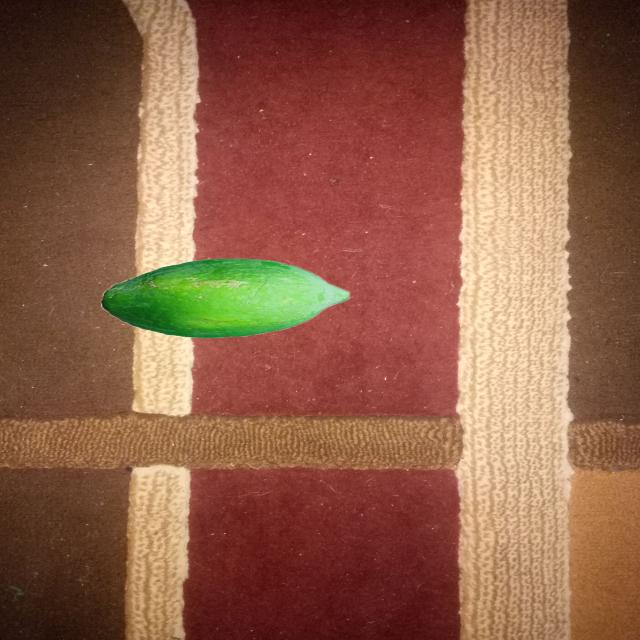Pepaya unrippen: (95, 255, 358, 347)
